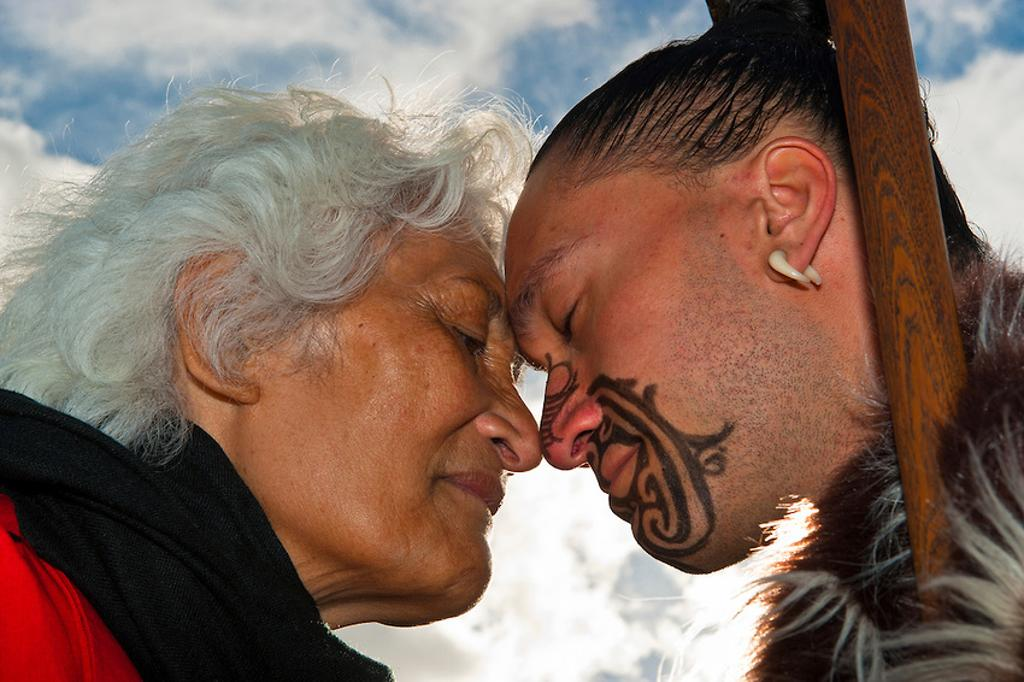face: (262, 178, 542, 622), (508, 166, 766, 568)
